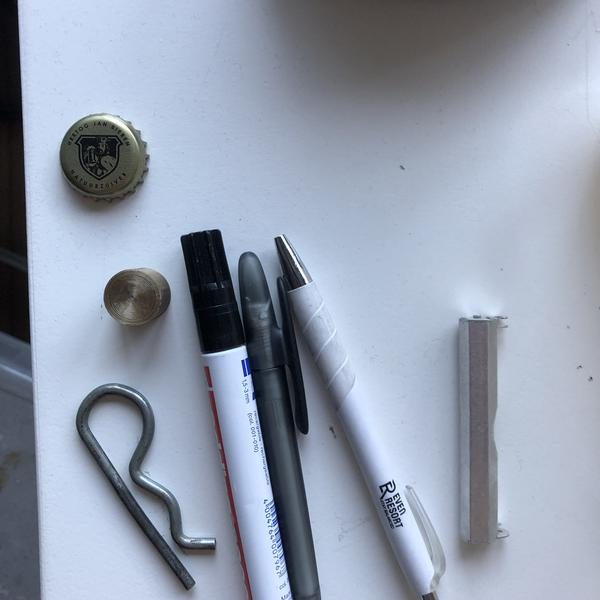hertogjan: (54, 110, 153, 206)
